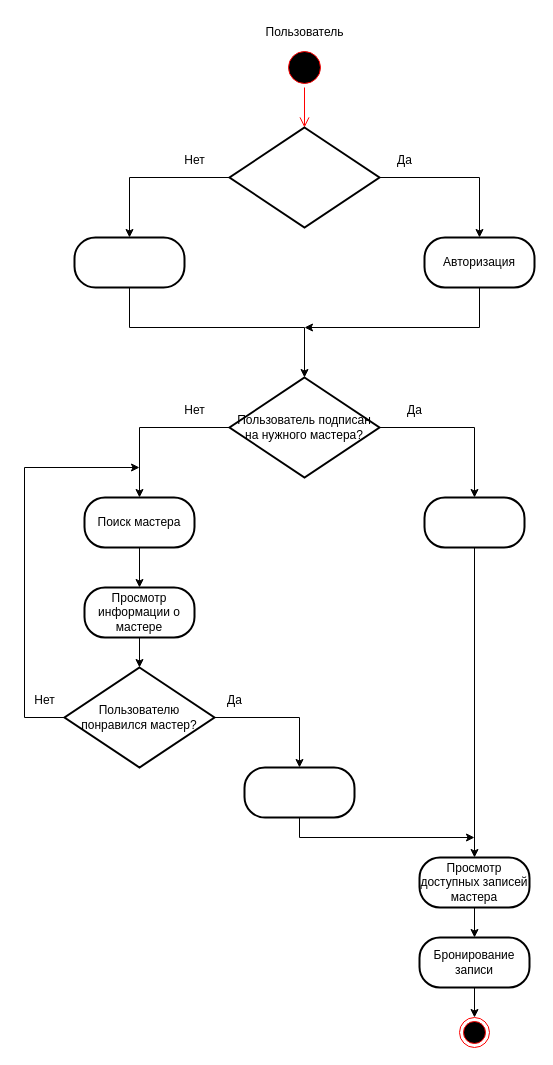
Image size: 553x1065. Some labels were removed from this diagram. The shapes that lost their labels are listed below. From the top down, each one's centre as x and y in pixels, then its label:
point (304, 177): Пользователь авторизован?
point (129, 262): Регистрация
point (474, 522): Поиск нужного мастера в списке "Мои мастера"
point (299, 792): Подписка на мастера
